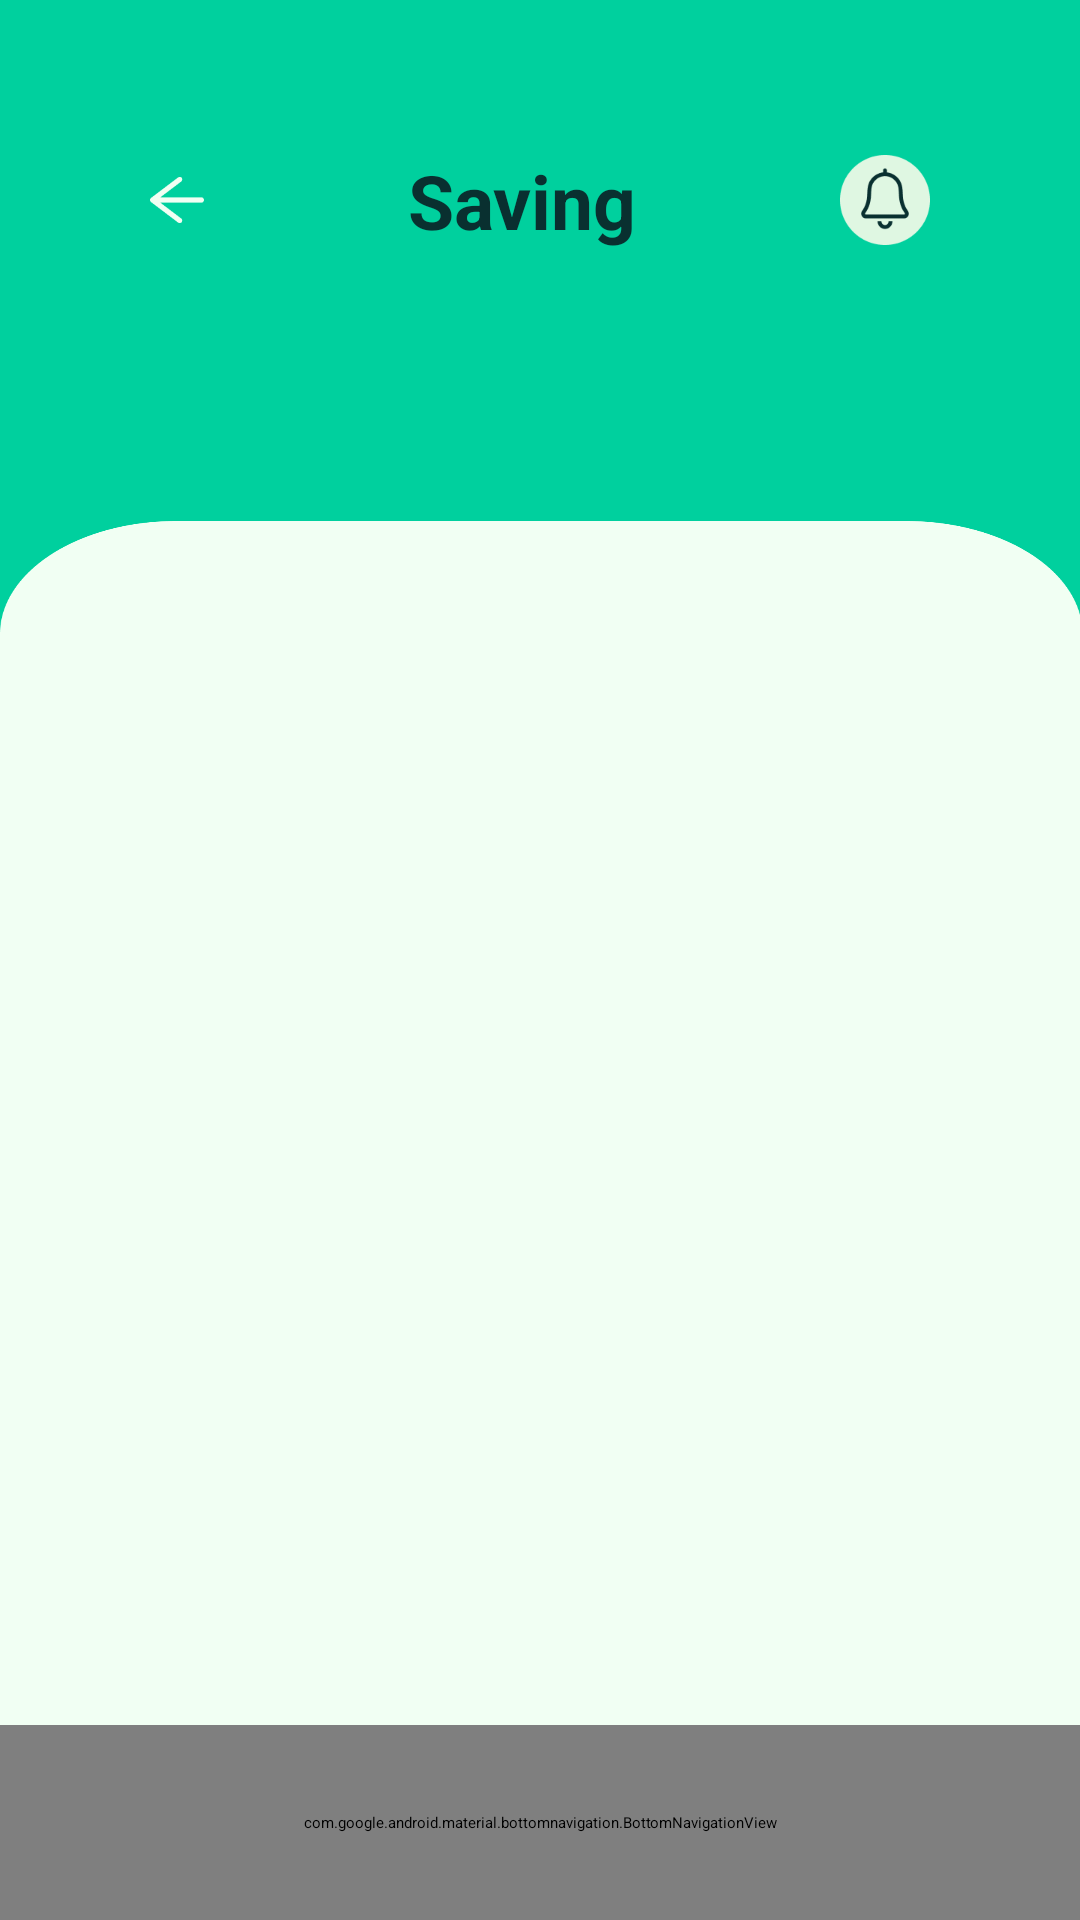

Where icons sit on this 1080 × 1920 app screen, as box=[x1, y1, x2, y2]:
Back Icon: box=[150, 177, 204, 223]
Notification Icon: box=[840, 155, 930, 245]
